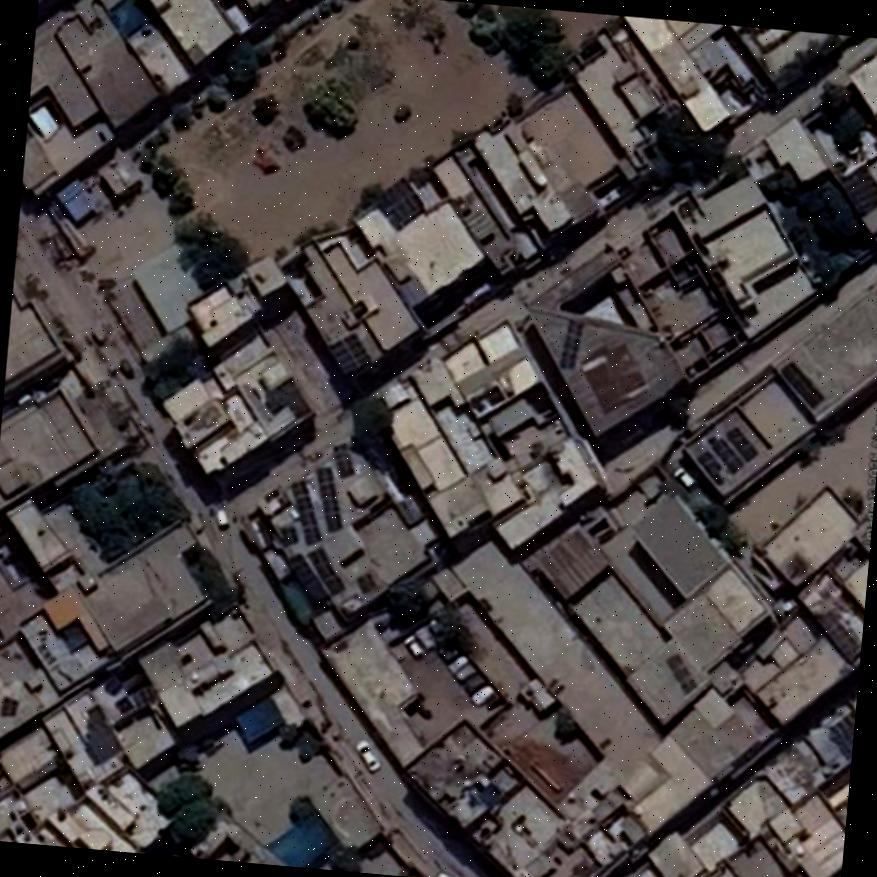Solarpanel: (378, 179, 424, 227), (290, 480, 321, 543), (783, 359, 822, 404), (327, 333, 371, 371), (315, 467, 341, 530), (307, 548, 341, 594), (831, 710, 854, 759), (560, 318, 582, 368), (715, 438, 743, 471), (728, 429, 756, 457)
